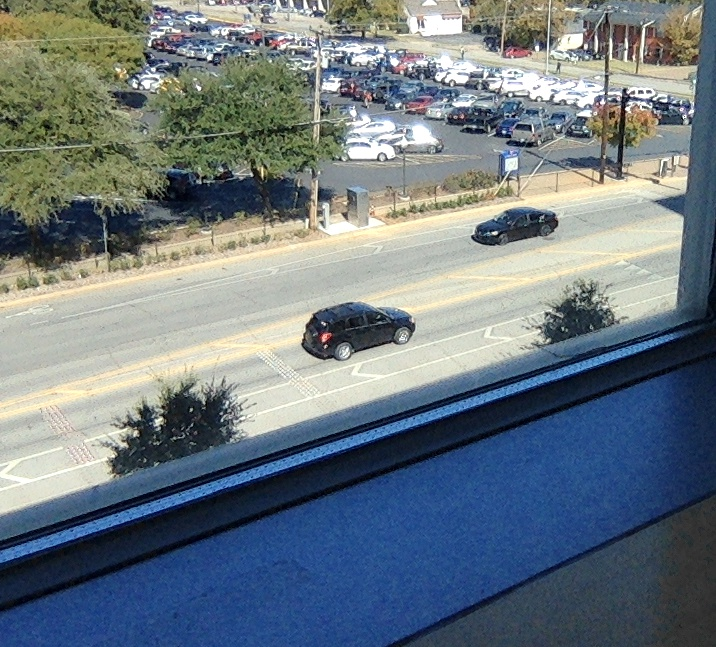car: (300, 300, 416, 362)
